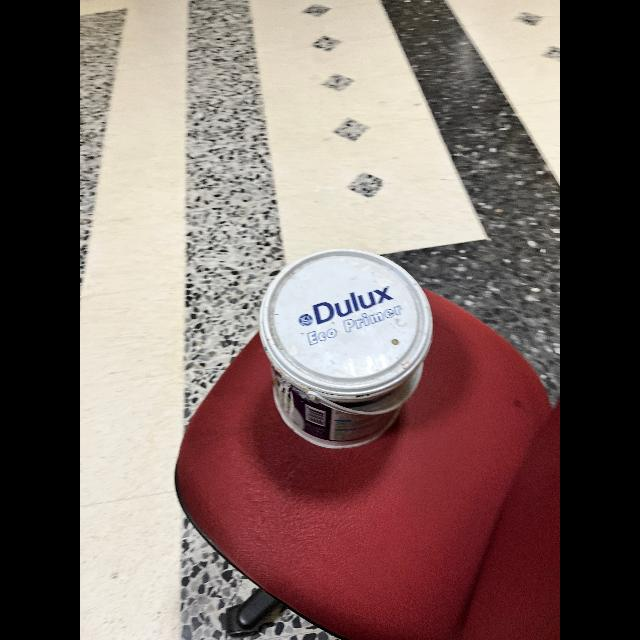paint_bucket: (255, 247, 435, 457)
